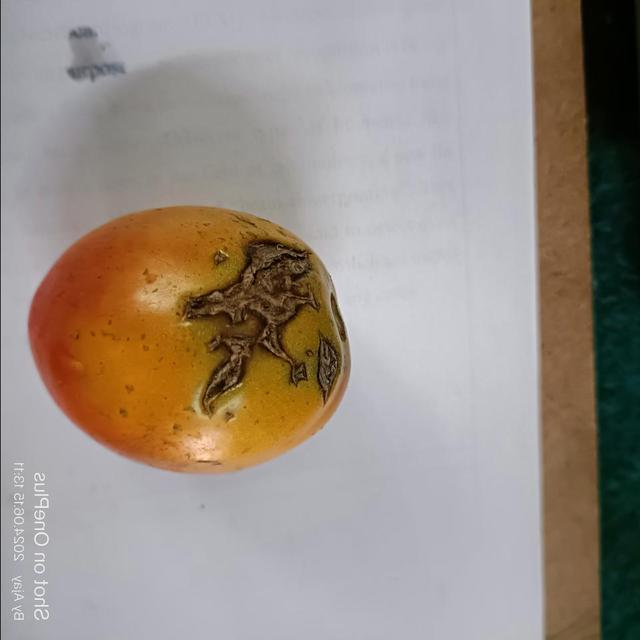Bacterial Spot Fruit: (20, 42, 219, 245)
